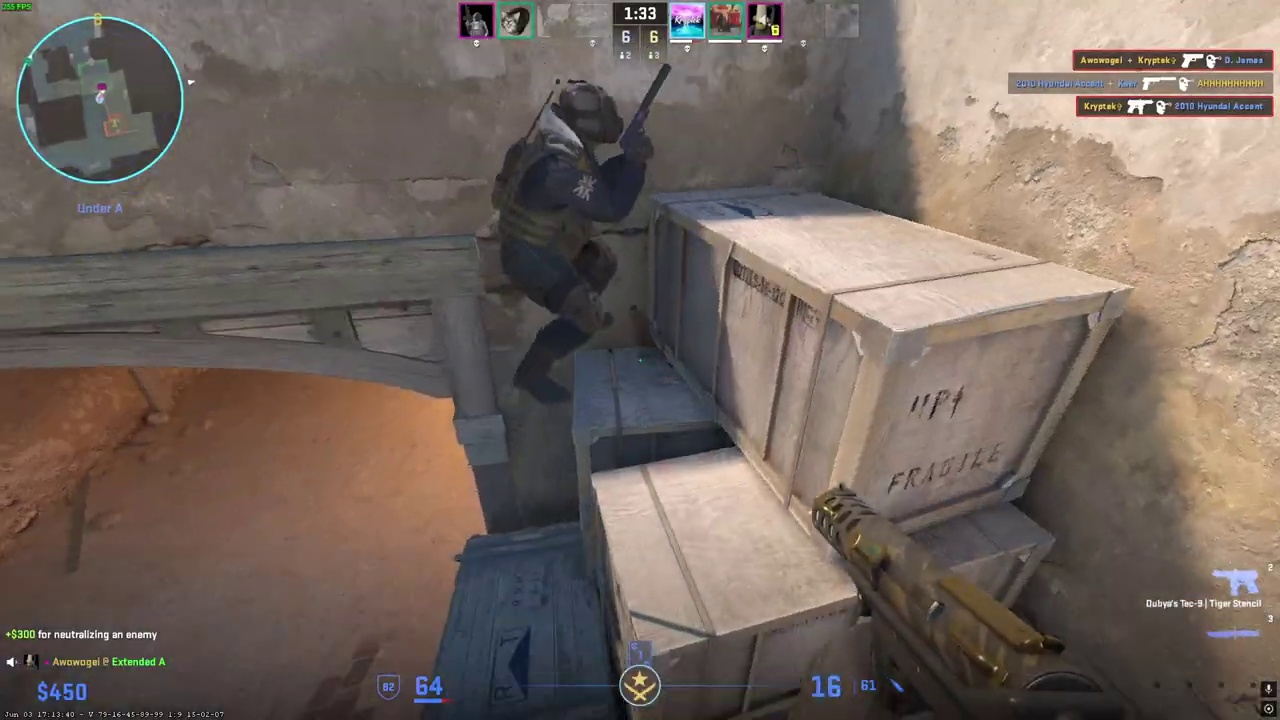CT: (492, 77, 638, 406)
